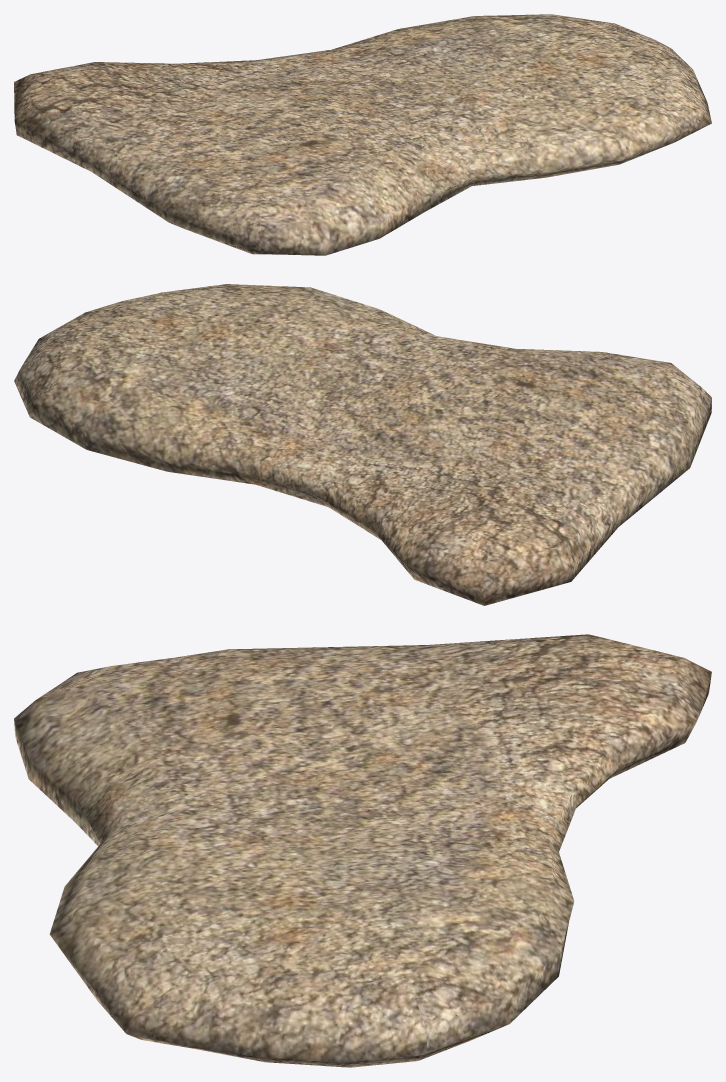
File: Stone05_v01.glb
3 views of the same model, one above another, from view 1: azimuth 30°, elevation 25°; view 2: azimuth 150°, elevation 25°; view 3: azimuth 270°, elevation 25° (orthographic). The views are drawn at different scales.
Visible parts, largest first — view 1: SM_Stone05; view 2: SM_Stone05; view 3: SM_Stone05.
Boxes of the visible parts, x1,y1,x2,y2 form: SM_Stone05: (14, 14, 711, 255); SM_Stone05: (14, 284, 711, 605); SM_Stone05: (14, 634, 711, 1067).
Bounding box in the file's own units: 1.43 × 0.1524 × 1.06.
Materials: 1 (1 with a texture image).
